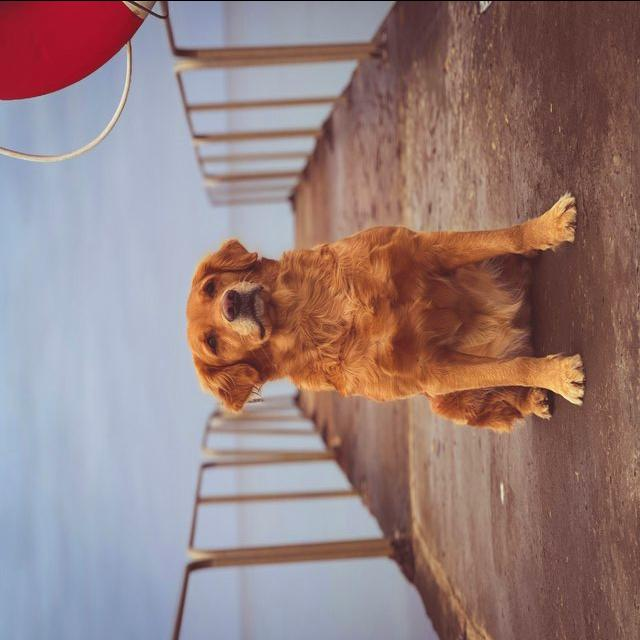retriever: (184, 190, 586, 434)
